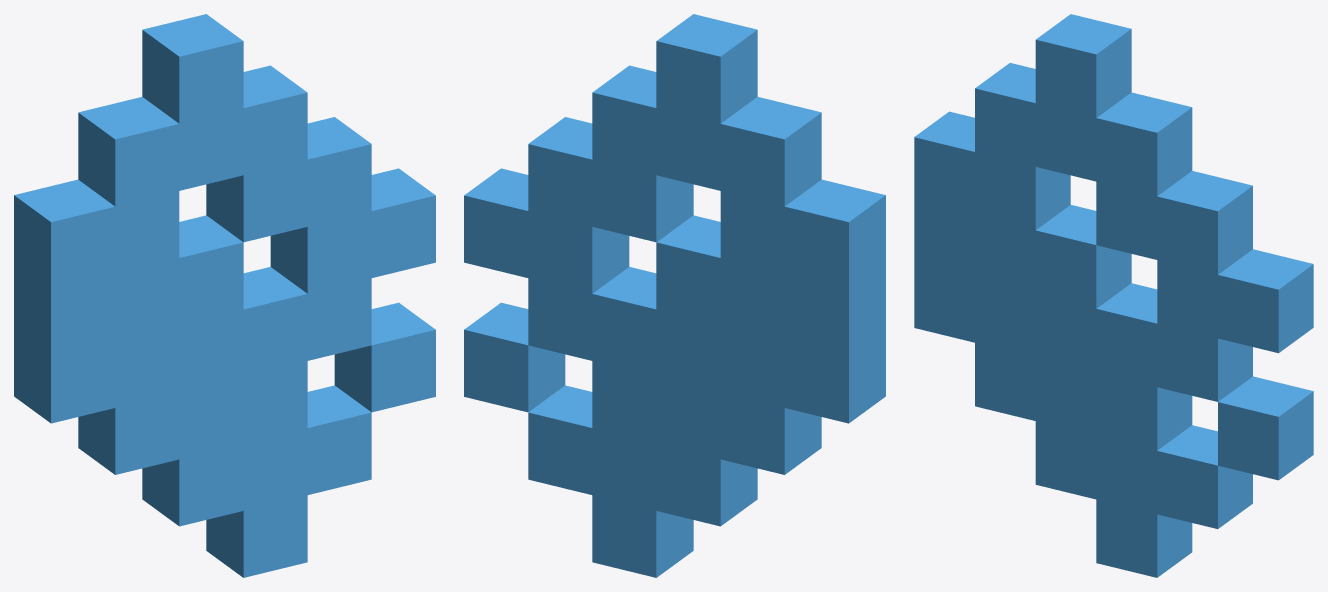
Rendered from Spell-Book-Blue.vox.obj.
The picture shows the model from 3 angles, left to right: view 1: azimuth 30°, elevation 25°; view 2: azimuth 150°, elevation 25°; view 3: azimuth 330°, elevation 25°; orthographic projection. The views are drawn at different scales.
Size of the model in its own units: 0.6 by 0.8 by 0.1.
Materials: 1 (1 with a texture image).
